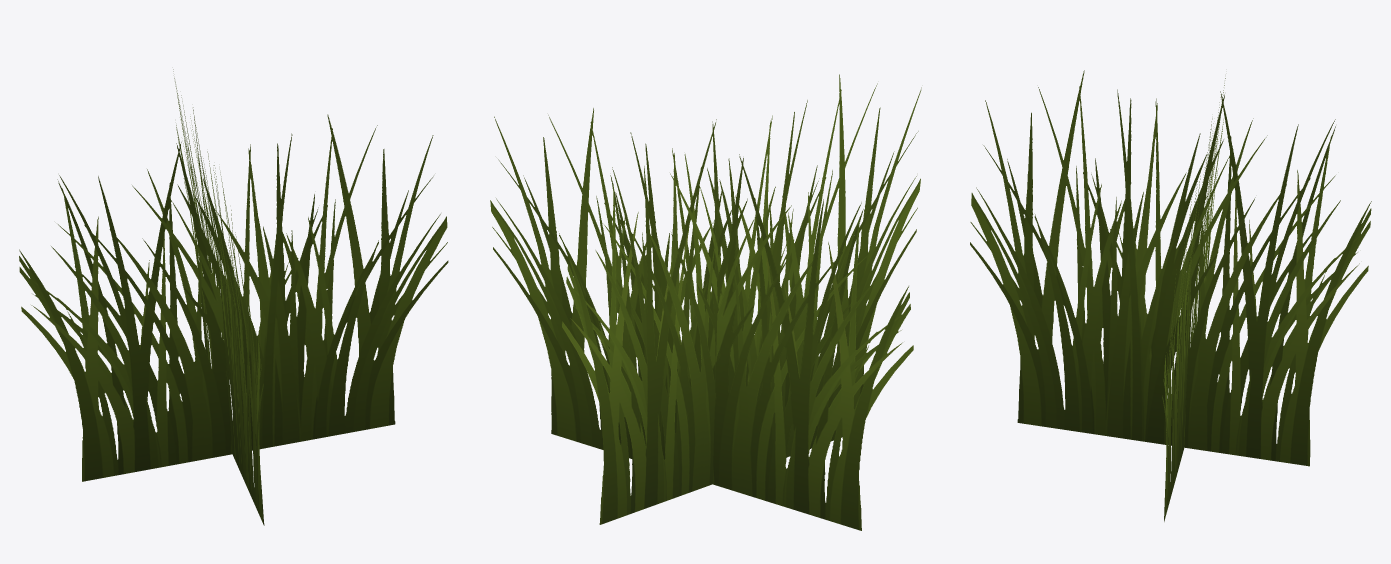
Rendered from grass_2_burnt2.glb.
3 renders of one model, left to right at view 1: azimuth 30°, elevation 25°; view 2: azimuth 150°, elevation 25°; view 3: azimuth 270°, elevation 25°, orthographic. The views are drawn at different scales.
Visible parts, largest first — view 1: grass_2_burnt2; view 2: grass_2_burnt2; view 3: grass_2_burnt2.
Boxes of the visible parts, left/top/right/bottom form: grass_2_burnt2: left=19, top=69, right=448, bottom=525; grass_2_burnt2: left=490, top=74, right=921, bottom=530; grass_2_burnt2: left=970, top=70, right=1371, bottom=521.
Bounding box in the file's own units: 0.5812 × 0.5055 × 0.5067.
1 material, 1 textured.
